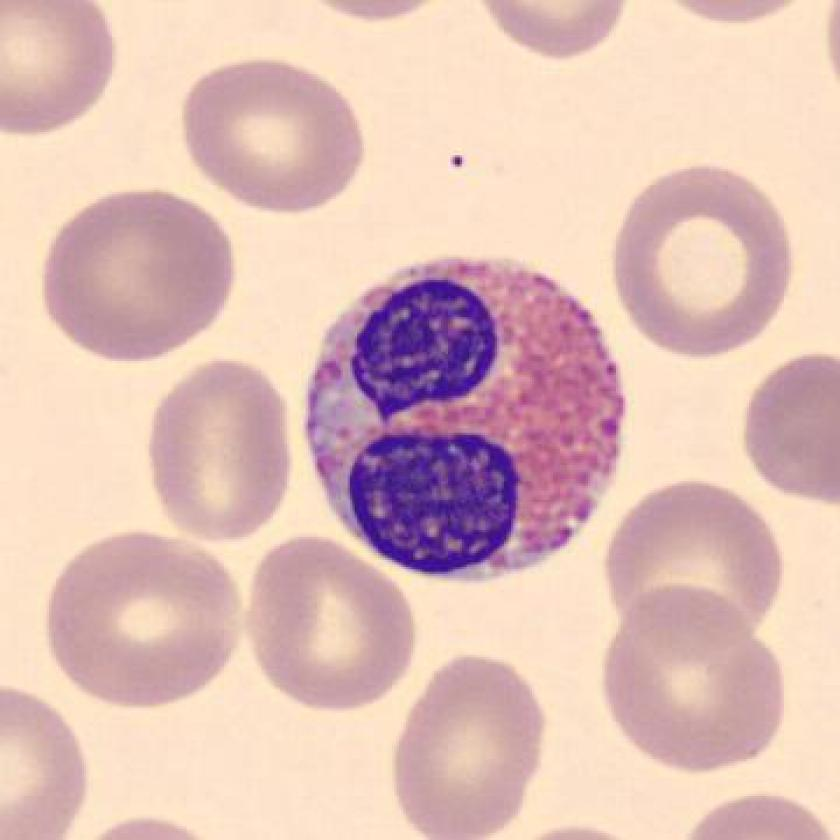eosinophil: (290, 240, 638, 594)
